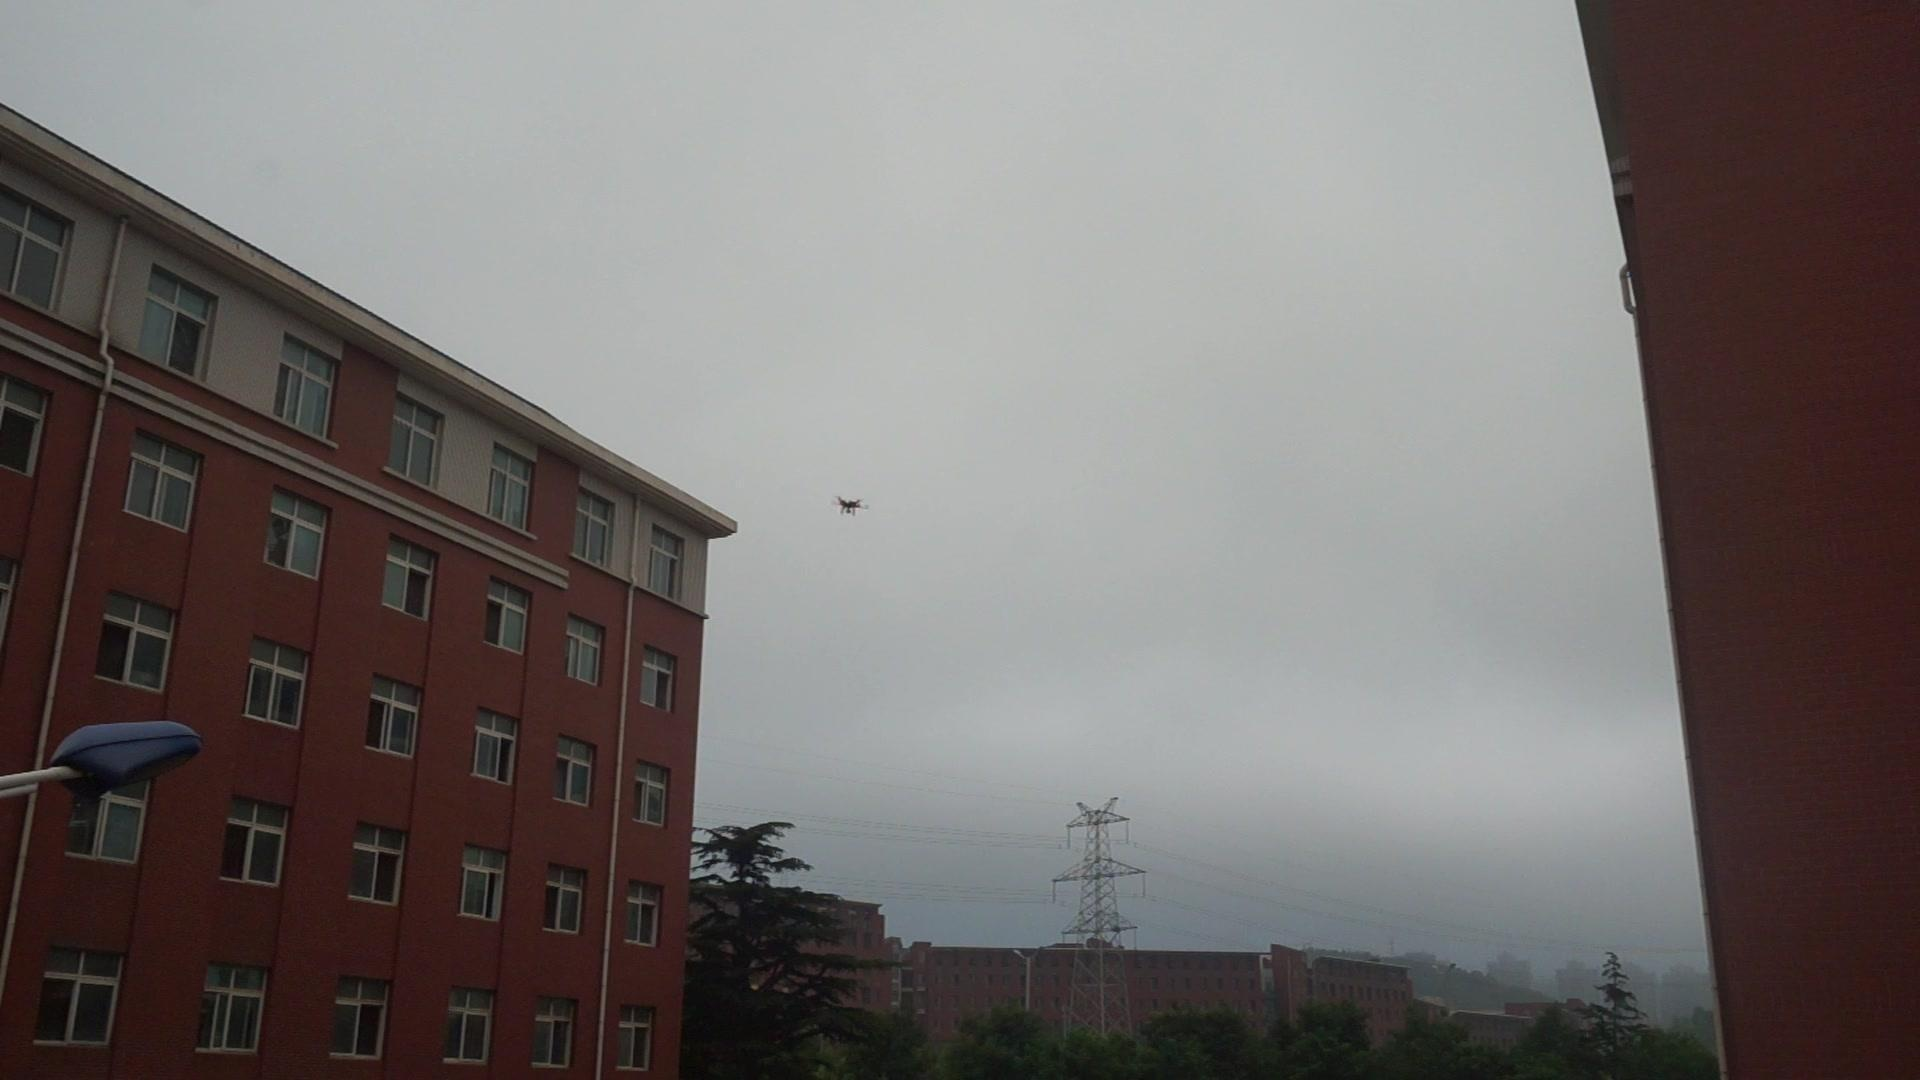UAV: (832, 497, 870, 517)
